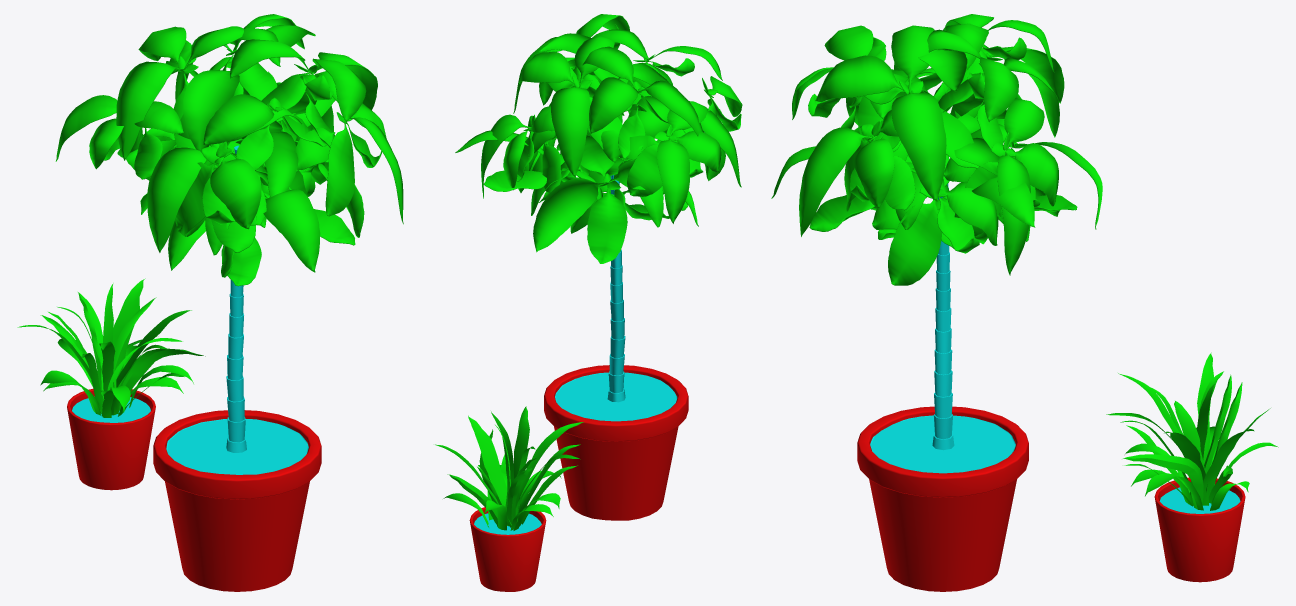
File: RoboTHOR_houseplants_grp.fbx
The picture shows the model from 3 angles, left to right: view 1: azimuth 30°, elevation 25°; view 2: azimuth 150°, elevation 25°; view 3: azimuth 270°, elevation 25°; orthographic projection. The views are drawn at different scales.
Visible parts, largest first — view 1: robothor_houseplant_1, robothor_houseplant_2; view 2: robothor_houseplant_1, robothor_houseplant_2; view 3: robothor_houseplant_1, robothor_houseplant_2.
Part boxes in pixels (x1,y1,x2,y2): robothor_houseplant_1: [55, 14, 403, 591]; robothor_houseplant_2: [17, 278, 205, 490]; robothor_houseplant_1: [455, 14, 742, 520]; robothor_houseplant_2: [435, 406, 583, 591]; robothor_houseplant_1: [771, 14, 1102, 591]; robothor_houseplant_2: [1106, 352, 1278, 582].
Size of the model in its own units: 25.06 by 46.81 by 39.71.
